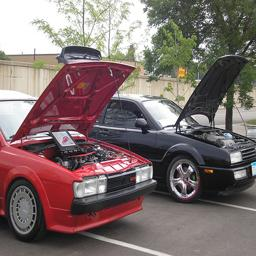car: (26, 92, 256, 256), (128, 66, 256, 256)
